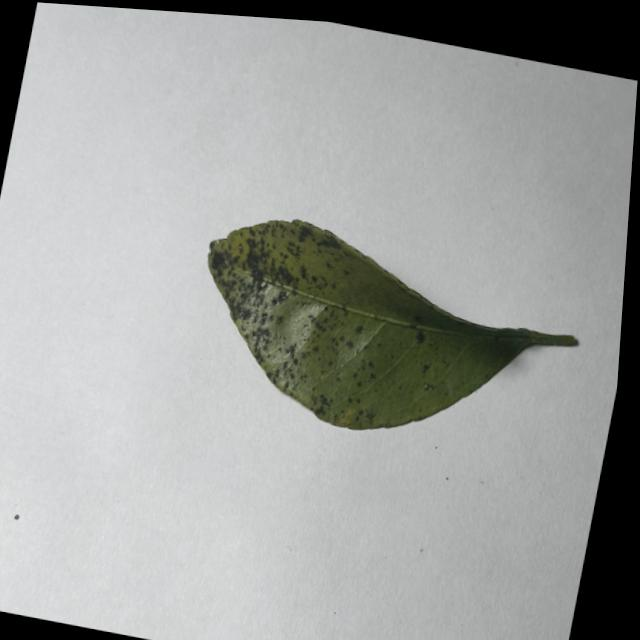sooty_mold: (208, 219, 576, 428)
